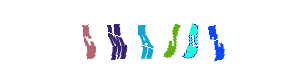A: (109, 0, 189, 80)
C: (67, 0, 147, 80)
D: (132, 0, 212, 80)
J: (127, 0, 207, 80)
M: (77, 0, 157, 80)
Z: (172, 0, 252, 80)
